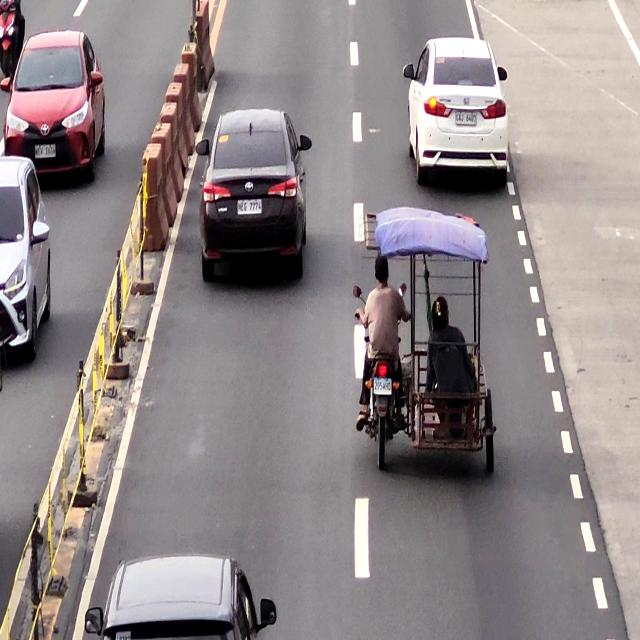Car: (200, 111, 303, 272), (404, 34, 506, 186), (104, 558, 256, 640)
License-Plate: (235, 196, 263, 218), (454, 109, 478, 129), (372, 374, 393, 394)
Tricycle: (366, 206, 494, 470)
